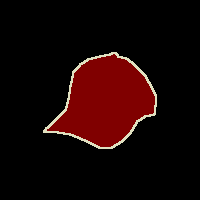hat: (44, 52, 156, 148)
